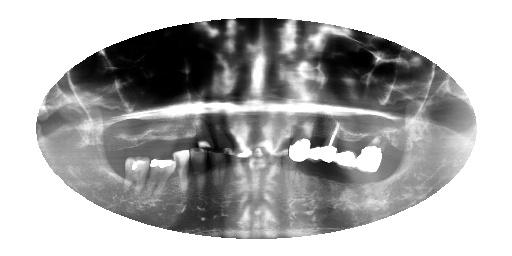Fillings: (145, 157, 178, 198), (356, 135, 388, 173), (288, 126, 311, 162), (337, 134, 357, 170), (309, 136, 321, 162)
Implant: (319, 120, 342, 164)
